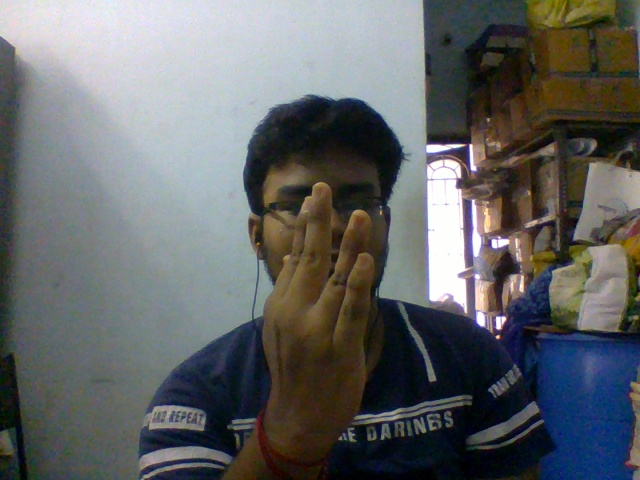LiveLong: (262, 180, 376, 458)
